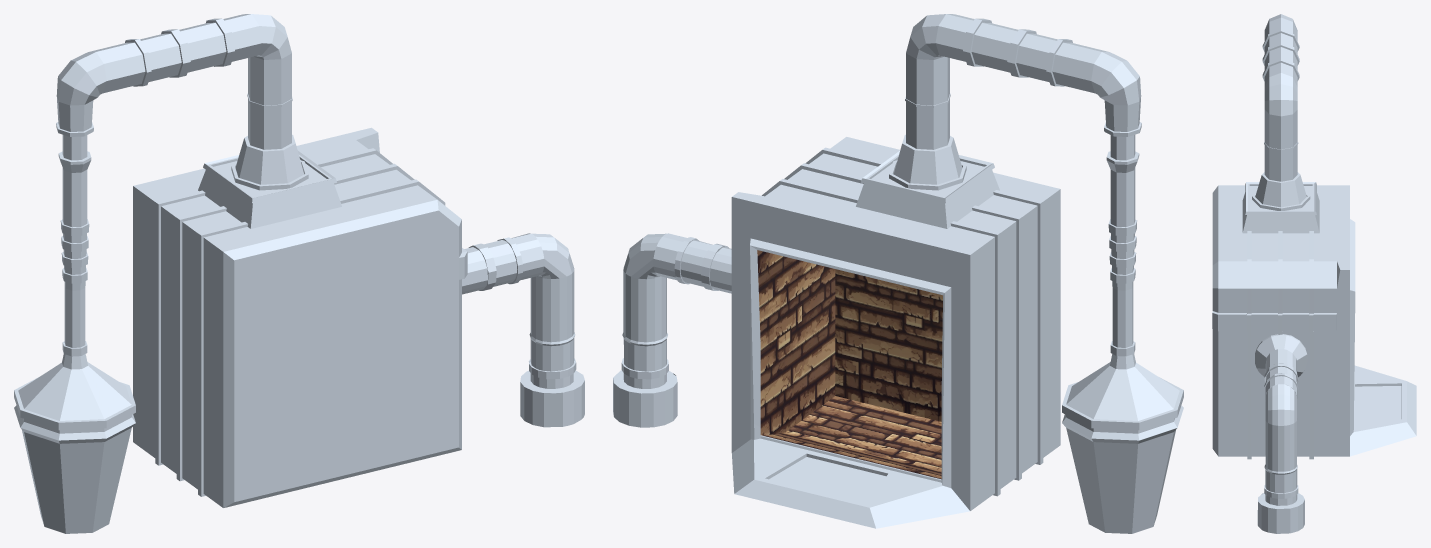
File: Furnace.fbx
3 views of the same model, side by side, from view 1: azimuth 30°, elevation 25°; view 2: azimuth 150°, elevation 25°; view 3: azimuth 270°, elevation 25° (orthographic). The views are drawn at different scales.
Parts seen in each view (by area): view 1: Main, TopVent, Cylinder; view 2: Main, TopVent, Cylinder; view 3: Main, TopVent, Cylinder.
Part boxes in pixels (<box>): Main: <box>133,127,467,507</box>; TopVent: <box>14,14,341,533</box>; Cylinder: <box>462,233,584,427</box>; Main: <box>731,137,1060,528</box>; TopVent: <box>856,14,1183,533</box>; Cylinder: <box>613,233,731,427</box>; Main: <box>1212,185,1416,459</box>; TopVent: <box>1242,14,1319,233</box>; Cylinder: <box>1255,334,1307,533</box>.
Bounding box in the file's own units: 970 × 788 × 421.
Materials: 4 (1 with a texture image).
